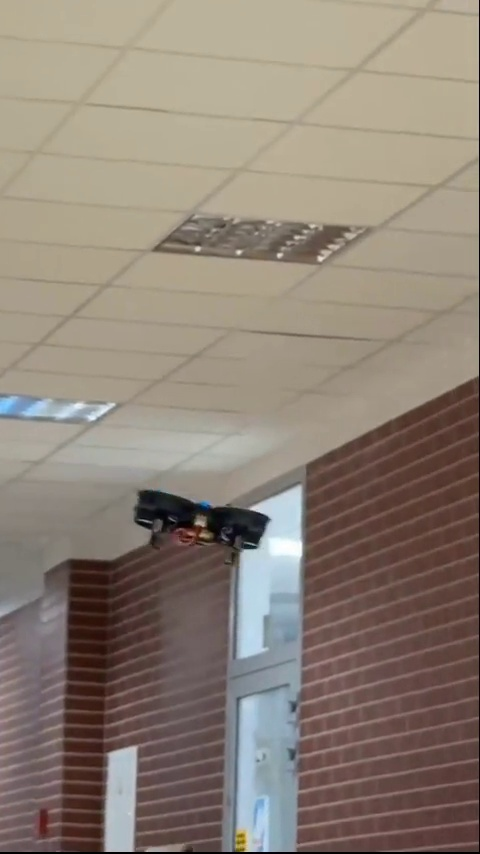drone: (134, 488, 270, 562)
